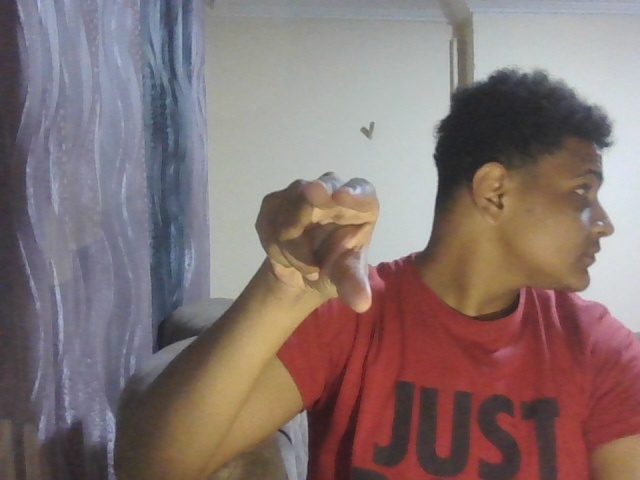no: (245, 140, 391, 332)
